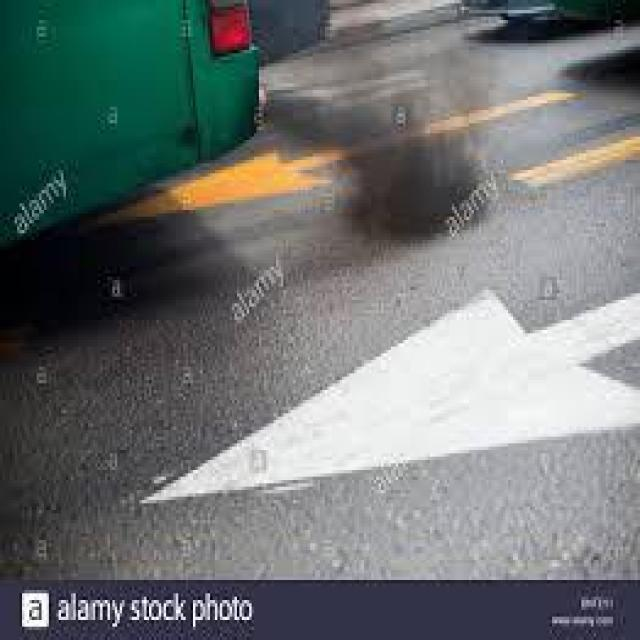Smoke: (268, 46, 500, 242)
